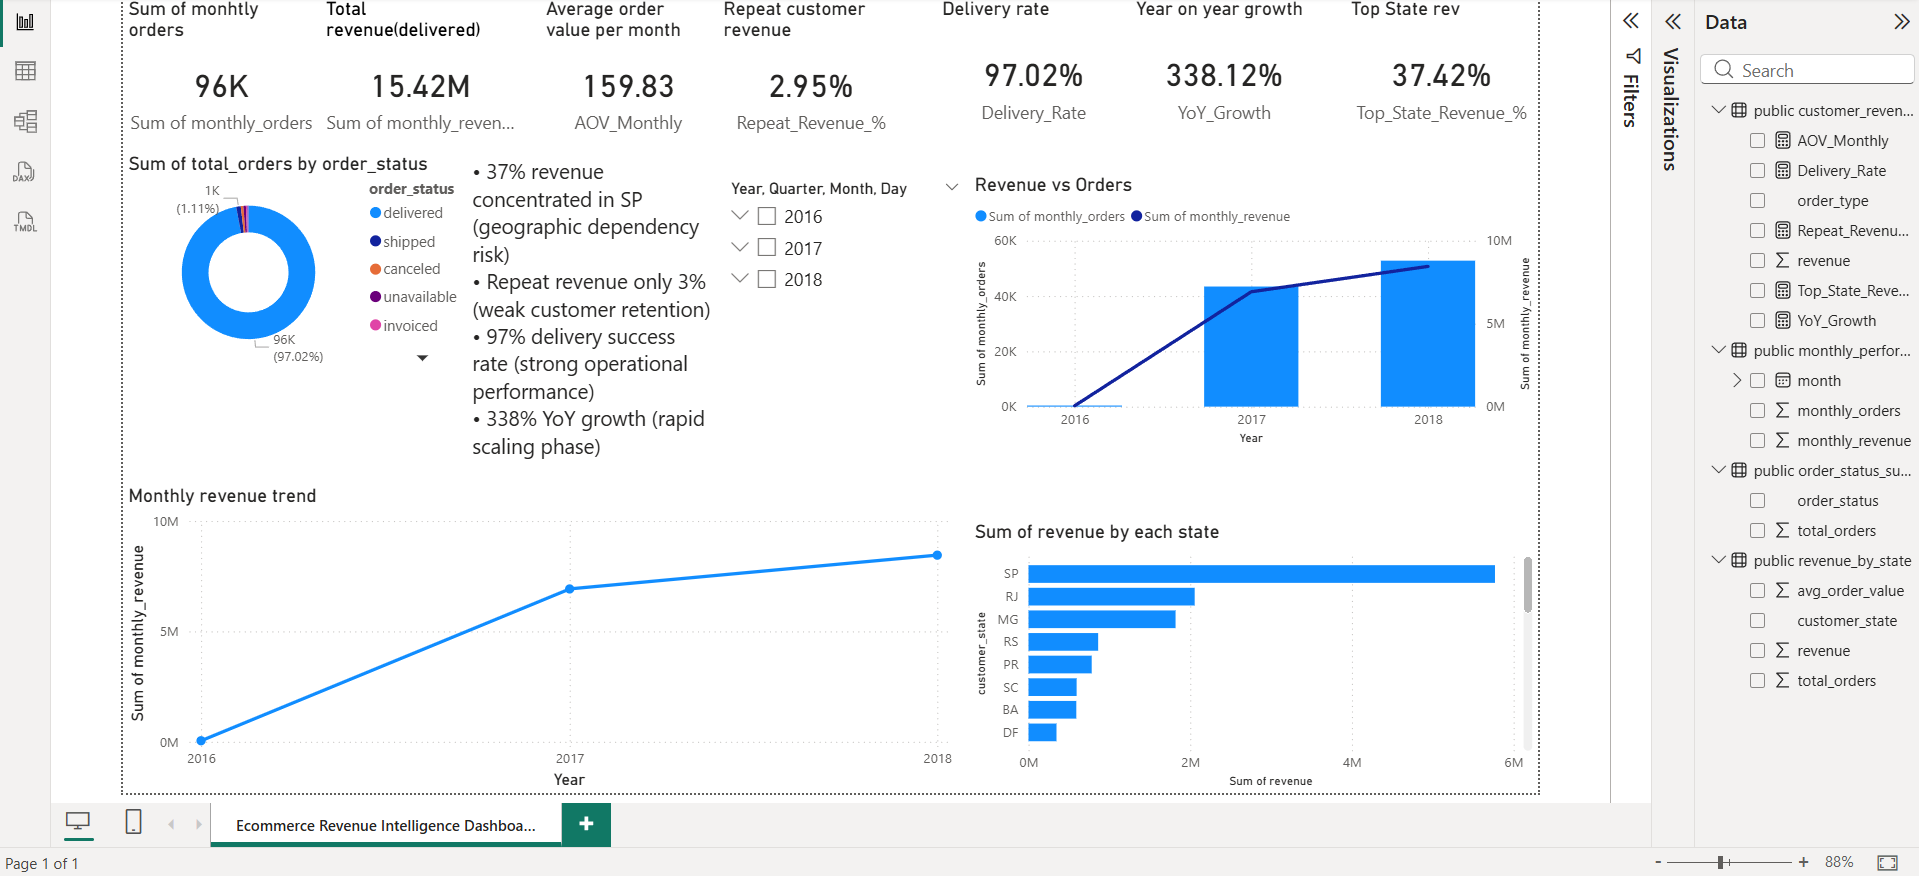

What the dashboard file says about the page in this screenshot:
{"tool":"powerbi","page":{"name":"Ecommerce Revenue Intelligence Dashboard","canvas":[1280,720],"ordinal":0},"visuals":[{"type":"card","title":"Total revenue(delivered)","fields":{"Values":["Sum(public monthly_performance.monthly_revenue)"]},"box":[178.4,0,181.1,140],"z":0},{"type":"card","title":"Sum of monhtly orders","fields":{"Values":["Sum(public monthly_performance.monthly_orders)"]},"box":[0,0,178.4,140],"z":1000},{"type":"card","title":"Average order value per month","fields":{"Values":["public customer_revenue_split.AOV_Monthly"]},"box":[377.4,0,159.2,140],"z":2000},{"type":"lineChart","title":"Monthly revenue trend ","fields":{"Category":["public monthly_performance.month.Variation.Date Hierarchy.Year","public monthly_performance.month.Variation.Date Hierarchy.Quarter","public monthly_performance.month.Variation.Date Hierarchy.Month","public monthly_performance.month.Variation.Date Hierarchy.Day"],"Y":["Sum(public monthly_performance.monthly_revenue)"]},"box":[0,440.5,754.7,279.9],"z":3000},{"type":"clusteredBarChart","title":"Sum of revenue by each state ","fields":{"Category":["public revenue_by_state.customer_state"],"Y":["Sum(public revenue_by_state.revenue)"]},"box":[765.7,473.4,514.6,247],"z":4000},{"type":"donutChart","fields":{"Category":["public order_status_summary.order_status"],"Y":["Sum(public order_status_summary.total_orders)"]},"box":[0,140,322.5,199],"z":5000},{"type":"slicer","fields":{"Values":["public monthly_performance.month.Variation.Date Hierarchy.Year","public monthly_performance.month.Variation.Date Hierarchy.Quarter","public monthly_performance.month.Variation.Date Hierarchy.Month","public monthly_performance.month.Variation.Date Hierarchy.Day"]},"box":[536.5,159.2,231.9,251.1],"z":6000},{"type":"card","title":"Delivery rate","fields":{"Values":["public customer_revenue_split.Delivery_Rate"]},"box":[735.5,0,175.6,140],"z":6002},{"type":"card","title":"Year on year growth","fields":{"Values":["public customer_revenue_split.YoY_Growth"]},"box":[911.2,0,170.2,140],"z":6003},{"type":"card","title":"Repeat customer revenue","fields":{"Values":["public customer_revenue_split.Repeat_Revenue_%"]},"box":[537.9,0,168.8,140],"z":6004},{"type":"card","title":"Top State rev","fields":{"Values":["public customer_revenue_split.Top_State_Revenue_%"]},"box":[1106,0,174.3,140],"z":6005},{"type":"lineClusteredColumnComboChart","title":"Revenue vs Orders ","fields":{"Category":["public monthly_performance.month.Variation.Date Hierarchy.Year","public monthly_performance.month.Variation.Date Hierarchy.Quarter","public monthly_performance.month.Variation.Date Hierarchy.Month","public monthly_performance.month.Variation.Date Hierarchy.Day"],"Y":["Sum(public monthly_performance.monthly_orders)"],"Y2":["Sum(public monthly_performance.monthly_revenue)"]},"box":[765.7,159.2,514.6,251.1],"z":6006},{"type":"textbox","box":[311.5,140,226.4,289.5],"z":6007}]}

Visuals, with their boxes on the page's 1280x720 design canvas (x1, y1, x2, y2). These are canvas units, not pixel positions in the 1919x876 screenshot, which may show the page scaled, cropped or inside an application window:
"Total revenue(delivered)" card: bbox=(178, 0, 360, 140)
"Sum of monhtly orders" card: bbox=(0, 0, 178, 140)
"Average order value per month" card: bbox=(377, 0, 537, 140)
"Monthly revenue trend " lineChart: bbox=(0, 440, 755, 720)
"Sum of revenue by each state " clusteredBarChart: bbox=(766, 473, 1280, 720)
donutChart - public order_status_summary.order_status x Sum(public order_status_summary.total_orders): bbox=(0, 140, 322, 339)
slicer - public monthly_performance.month.Variation.Date Hierarchy.Year x public monthly_performance.month.Variation.Date Hierarchy.Quarter: bbox=(536, 159, 768, 410)
"Delivery rate" card: bbox=(736, 0, 911, 140)
"Year on year growth" card: bbox=(911, 0, 1081, 140)
"Repeat customer revenue" card: bbox=(538, 0, 707, 140)
"Top State rev" card: bbox=(1106, 0, 1280, 140)
"Revenue vs Orders " lineClusteredColumnComboChart: bbox=(766, 159, 1280, 410)
textbox: bbox=(312, 140, 538, 430)
